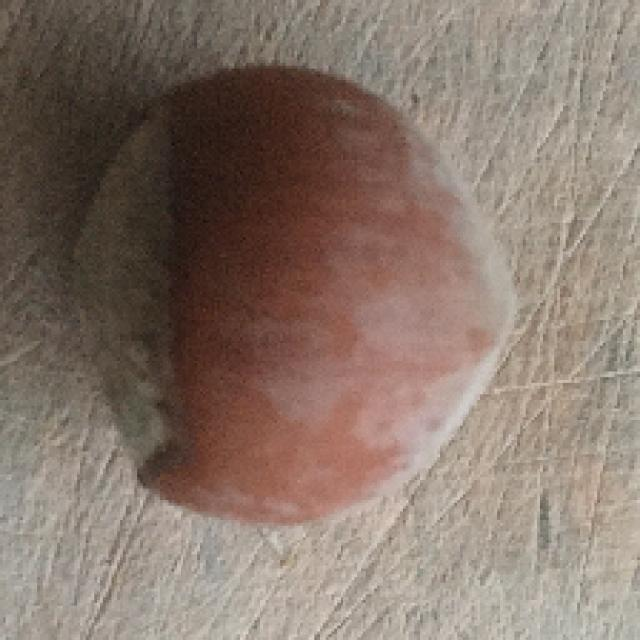QualityHazelnut: (66, 74, 524, 524)
